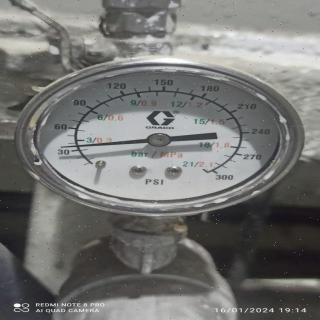gauge: (8, 55, 310, 216), (84, 154, 112, 186), (145, 131, 176, 150), (202, 161, 226, 181), (59, 144, 71, 151)
